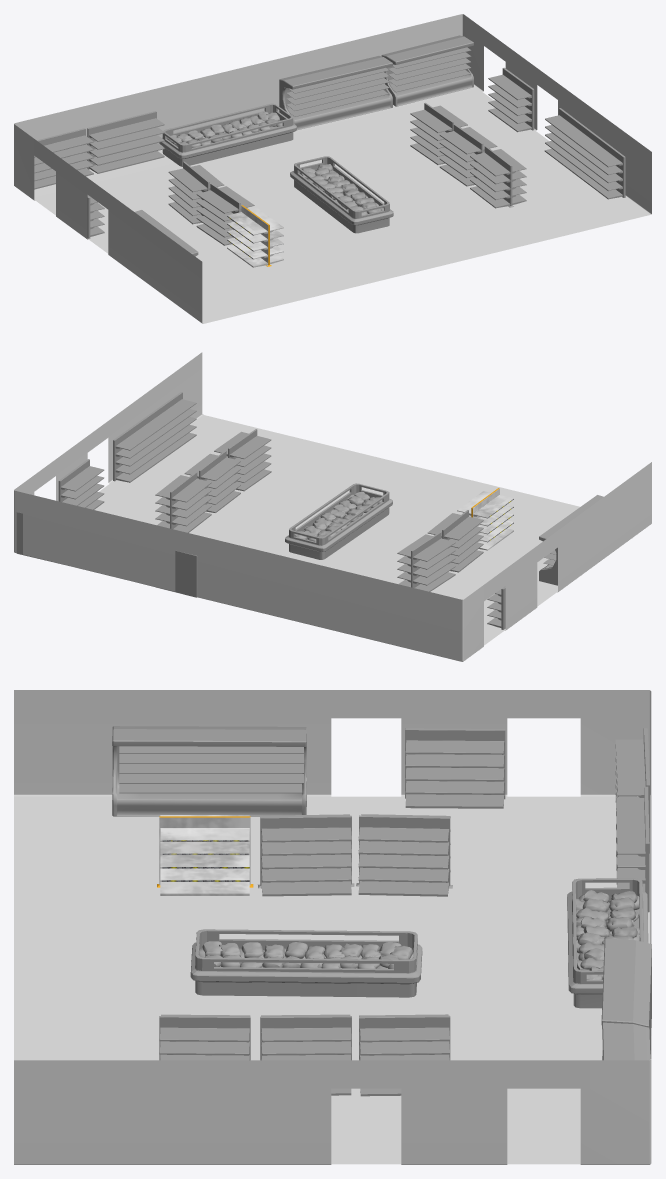
Rendered from testwithtext.fbx.
The picture shows the model from 3 angles, top to bottom: view 1: azimuth 30°, elevation 25°; view 2: azimuth 150°, elevation 25°; view 3: azimuth 270°, elevation 25°; orthographic projection. The views are drawn at different scales.
Visible parts, largest first — view 1: pPlane1, icebox1 (×2), cooler_body (×3), single_shelf3, single_shelf6, doubleshelf5, doubleshelf2, single_shelf4, single_shelf, doubleshelf4, doubleshelf1, doubleshelf (+7 smaller); view 2: pPlane1, single_shelf3, icebox1, doubleshelf3, doubleshelf, doubleshelf2, doubleshelf5, doubleshelf1, doubleshelf4, cooler_body (×2), single_shelf4, single_shelf5; view 3: pPlane1, cooler_body (×3), icebox1 (×2), single_shelf5, doubleshelf3, doubleshelf4, doubleshelf5, doubleshelf, doubleshelf1, doubleshelf2, single_shelf6, single_shelf (+5 smaller).
Boxes of the visible parts, x1=… form: pPlane1: x1=14, y1=14, x2=651, y2=323; icebox1 (×2): x1=159, y1=103, x2=393, y2=233; cooler_body (×3): x1=135, y1=35, x2=473, y2=256; single_shelf3: x1=544, y1=108, x2=625, y2=199; single_shelf6: x1=87, y1=111, x2=164, y2=173; doubleshelf5: x1=227, y1=205, x2=283, y2=267; doubleshelf2: x1=470, y1=146, x2=526, y2=208; single_shelf4: x1=488, y1=67, x2=534, y2=132; single_shelf: x1=34, y1=128, x2=93, y2=189; doubleshelf4: x1=196, y1=183, x2=254, y2=245; doubleshelf1: x1=439, y1=124, x2=497, y2=186; doubleshelf: x1=410, y1=102, x2=467, y2=164; pPlane1: x1=14, y1=352, x2=651, y2=661; single_shelf3: x1=113, y1=392, x2=196, y2=482; icebox1: x1=285, y1=483, x2=392, y2=559; doubleshelf3: x1=397, y1=531, x2=455, y2=591; doubleshelf: x1=155, y1=472, x2=211, y2=532; doubleshelf2: x1=214, y1=429, x2=271, y2=491; doubleshelf5: x1=457, y1=488, x2=513, y2=550; doubleshelf1: x1=184, y1=450, x2=240, y2=512; doubleshelf4: x1=427, y1=510, x2=483, y2=572; cooler_body (×2): x1=155, y1=495, x2=603, y2=597; single_shelf4: x1=58, y1=459, x2=104, y2=509; single_shelf5: x1=487, y1=586, x2=505, y2=629; pPlane1: x1=14, y1=690, x2=651, y2=1164; cooler_body (×3): x1=112, y1=726, x2=651, y2=1060; icebox1 (×2): x1=190, y1=878, x2=648, y2=1008; single_shelf5: x1=405, y1=728, x2=505, y2=808; doubleshelf3: x1=356, y1=814, x2=452, y2=896; doubleshelf4: x1=258, y1=814, x2=354, y2=896; doubleshelf5: x1=157, y1=815, x2=253, y2=895; doubleshelf: x1=359, y1=1014, x2=450, y2=1096; doubleshelf1: x1=260, y1=1014, x2=351, y2=1095; doubleshelf2: x1=159, y1=1014, x2=250, y2=1060; single_shelf6: x1=616, y1=786, x2=649, y2=912; single_shelf: x1=615, y1=728, x2=649, y2=853.
Size of the model in its own units: 10.08 by 1.34 by 7.34.
Materials: 3 (1 with a texture image).
